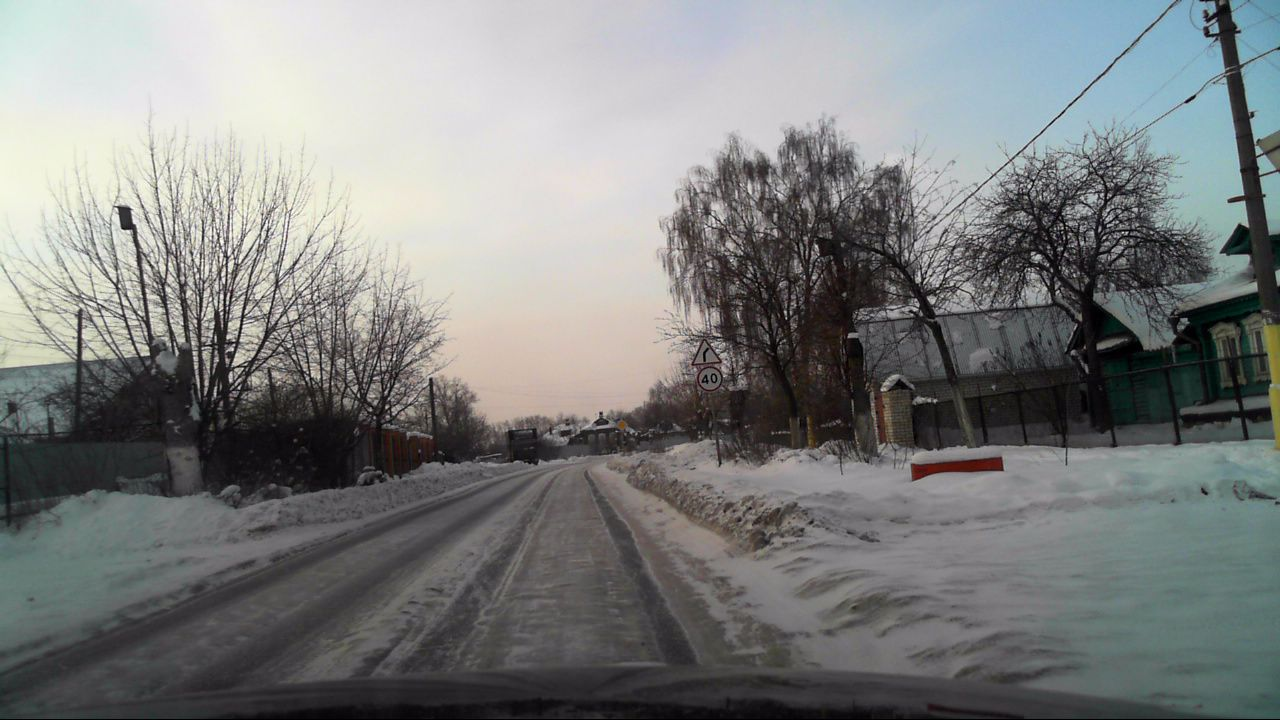speed_warning_40: (697, 367, 722, 392)
